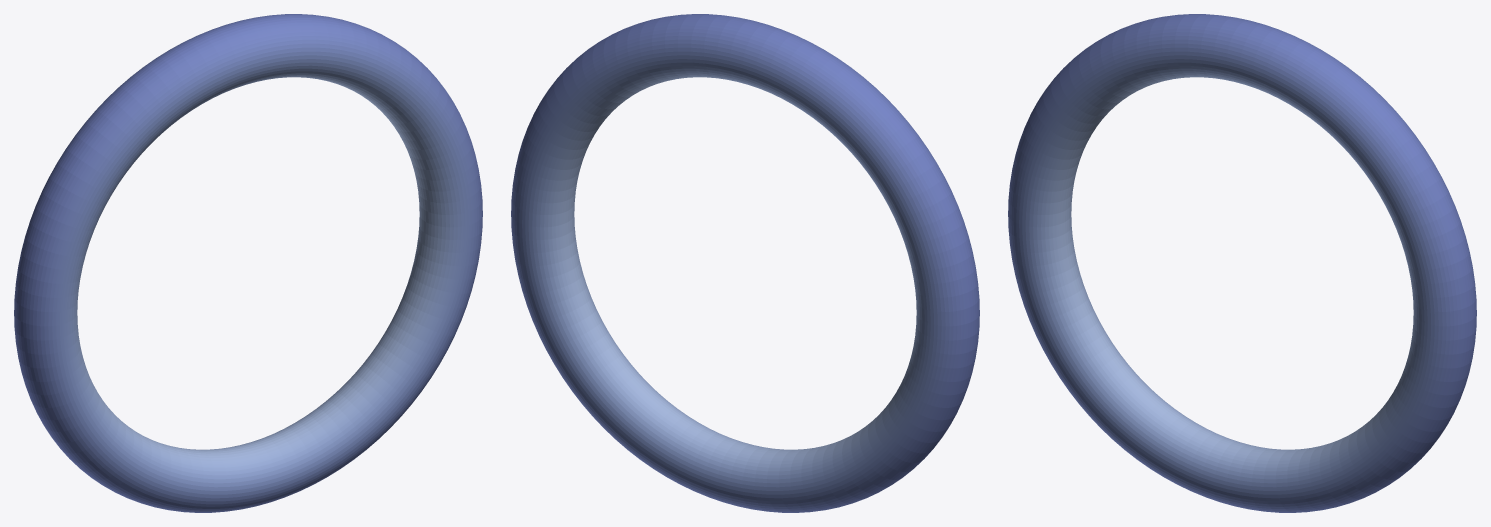
3 renders of one model, left to right at view 1: azimuth 30°, elevation 25°; view 2: azimuth 150°, elevation 25°; view 3: azimuth 330°, elevation 25°, orthographic.
Parts seen in each view (by area): view 1: world; view 2: world; view 3: world.
Part boxes in pixels (<box>): world: <box>14,14,482,512</box>; world: <box>511,14,979,512</box>; world: <box>1008,14,1476,512</box>.
Size of the model in its own units: 25.73 by 25.73 by 3.06.
